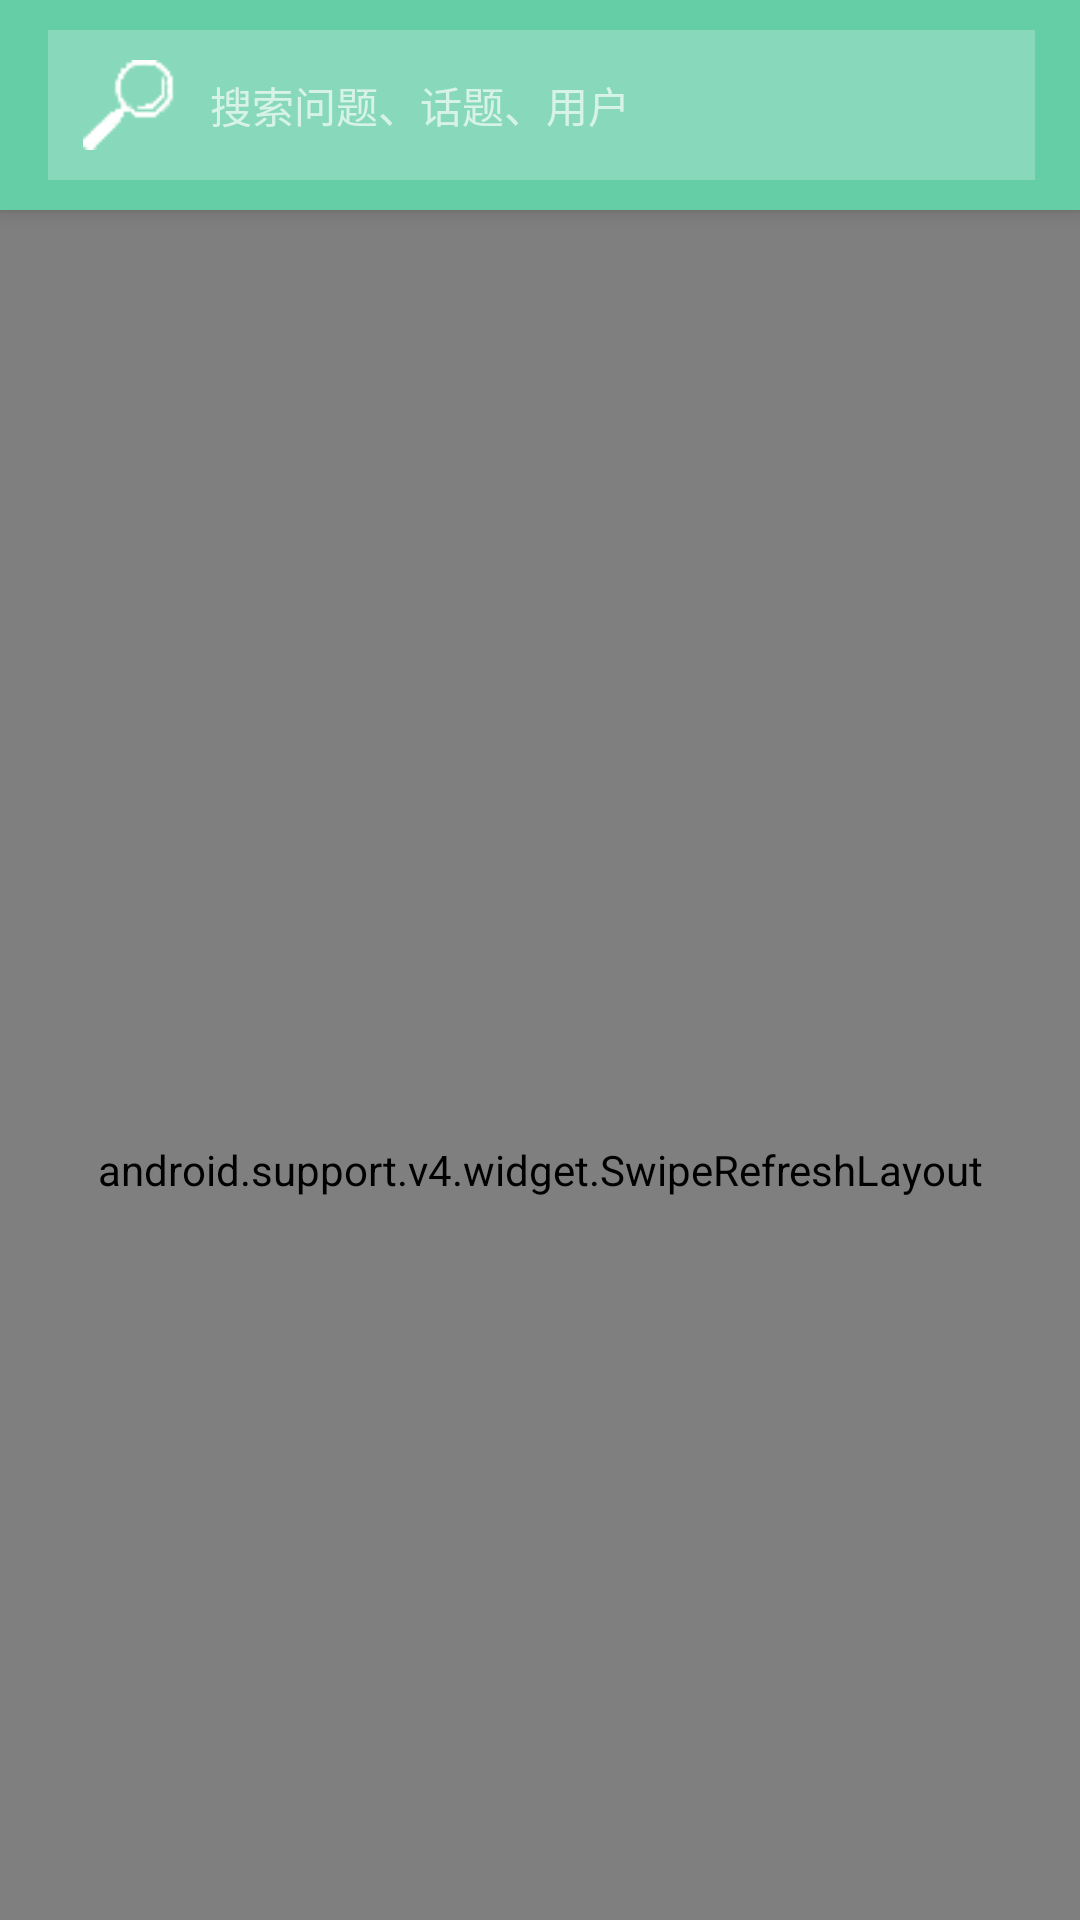

Named icons in this screenshot (1080px x 1920px) and their bounding boxes, (x1, y1, x2, y2):
search: (83, 60, 173, 150)
